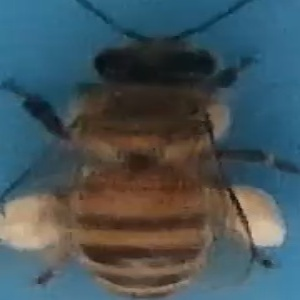bee: (13, 20, 295, 295)
